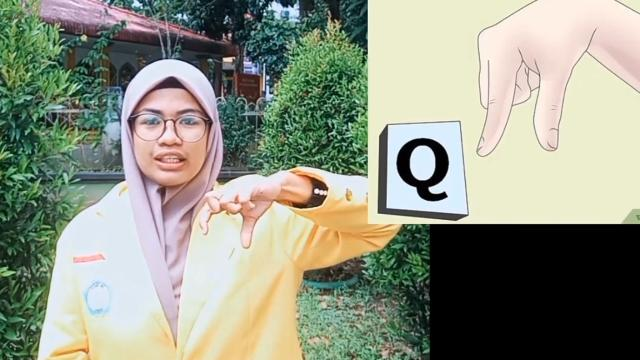Q: (197, 174, 277, 252)
